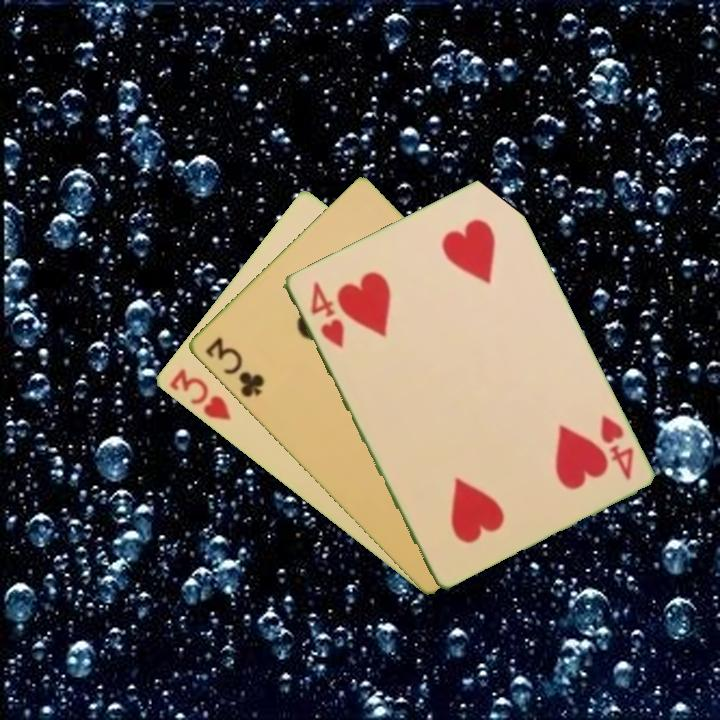3c: (201, 333, 267, 400)
3h: (165, 365, 234, 424)
4h: (306, 278, 347, 352), (596, 411, 636, 482)
